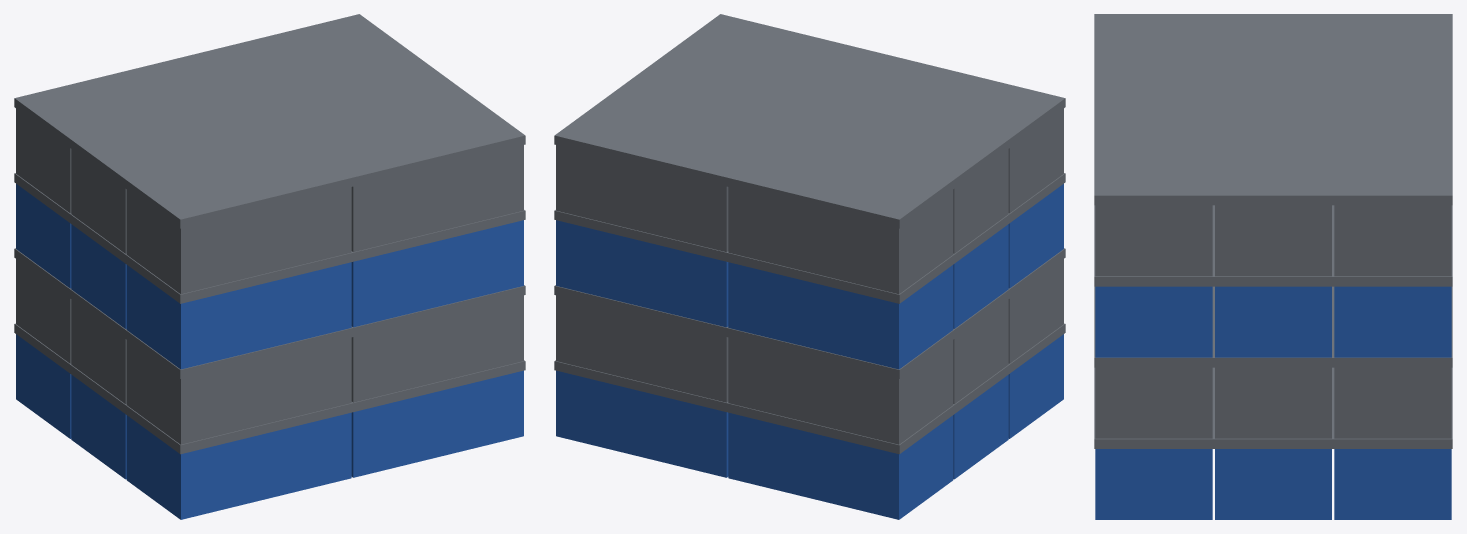
The model's file is load-iso1200x1000-crates.glb.
3 views of the same model, side by side, from view 1: azimuth 30°, elevation 25°; view 2: azimuth 150°, elevation 25°; view 3: azimuth 270°, elevation 25° (orthographic). The views are drawn at different scales.
Parts seen in each view (by area): view 1: load-crates; view 2: load-crates; view 3: load-crates.
Part boxes in pixels (x1,y1,x2,y2): load-crates: (14,14,525,519); load-crates: (554,14,1065,519); load-crates: (1094,14,1452,519).
Bounding box in the file's own units: 1.2 × 1 × 1.
